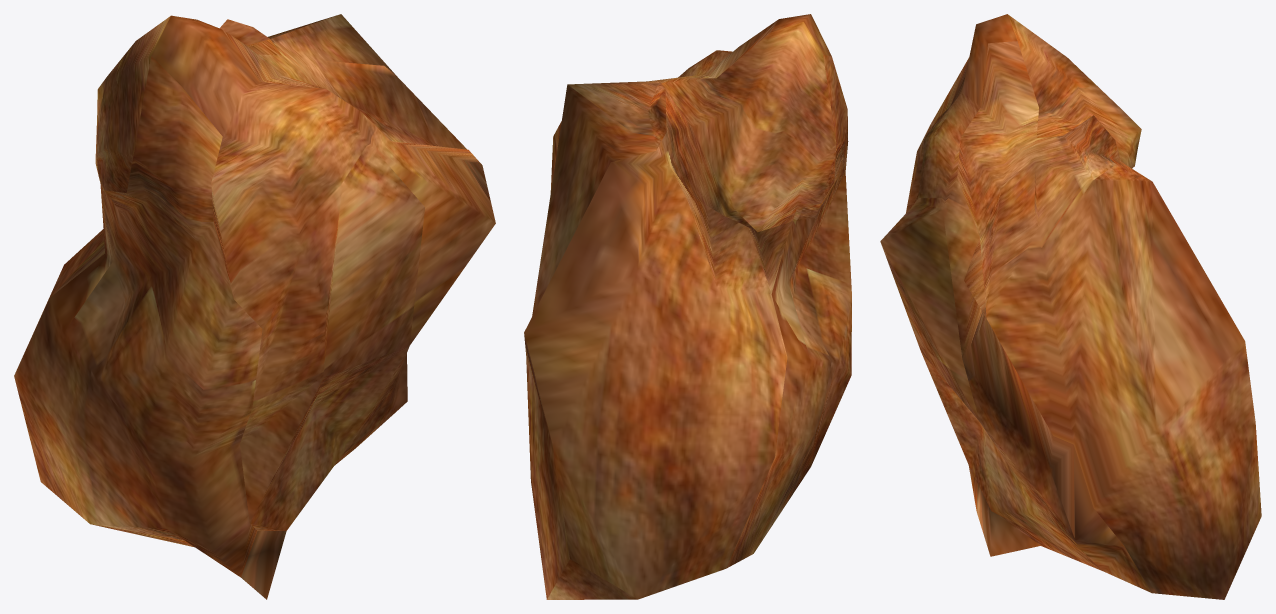
Rendered from rock_4.obj.
3 views of the same model, side by side, from view 1: azimuth 30°, elevation 25°; view 2: azimuth 150°, elevation 25°; view 3: azimuth 270°, elevation 25° (orthographic). The views are drawn at different scales.
Visible parts, largest first — view 1: pCube1; view 2: pCube1; view 3: pCube1.
Part boxes in pixels (x1,y1,x2,y2): pCube1: (14, 14, 495, 599); pCube1: (524, 14, 851, 599); pCube1: (880, 14, 1261, 599).
Size of the model in its own units: 3.11 by 5.01 by 3.35.
